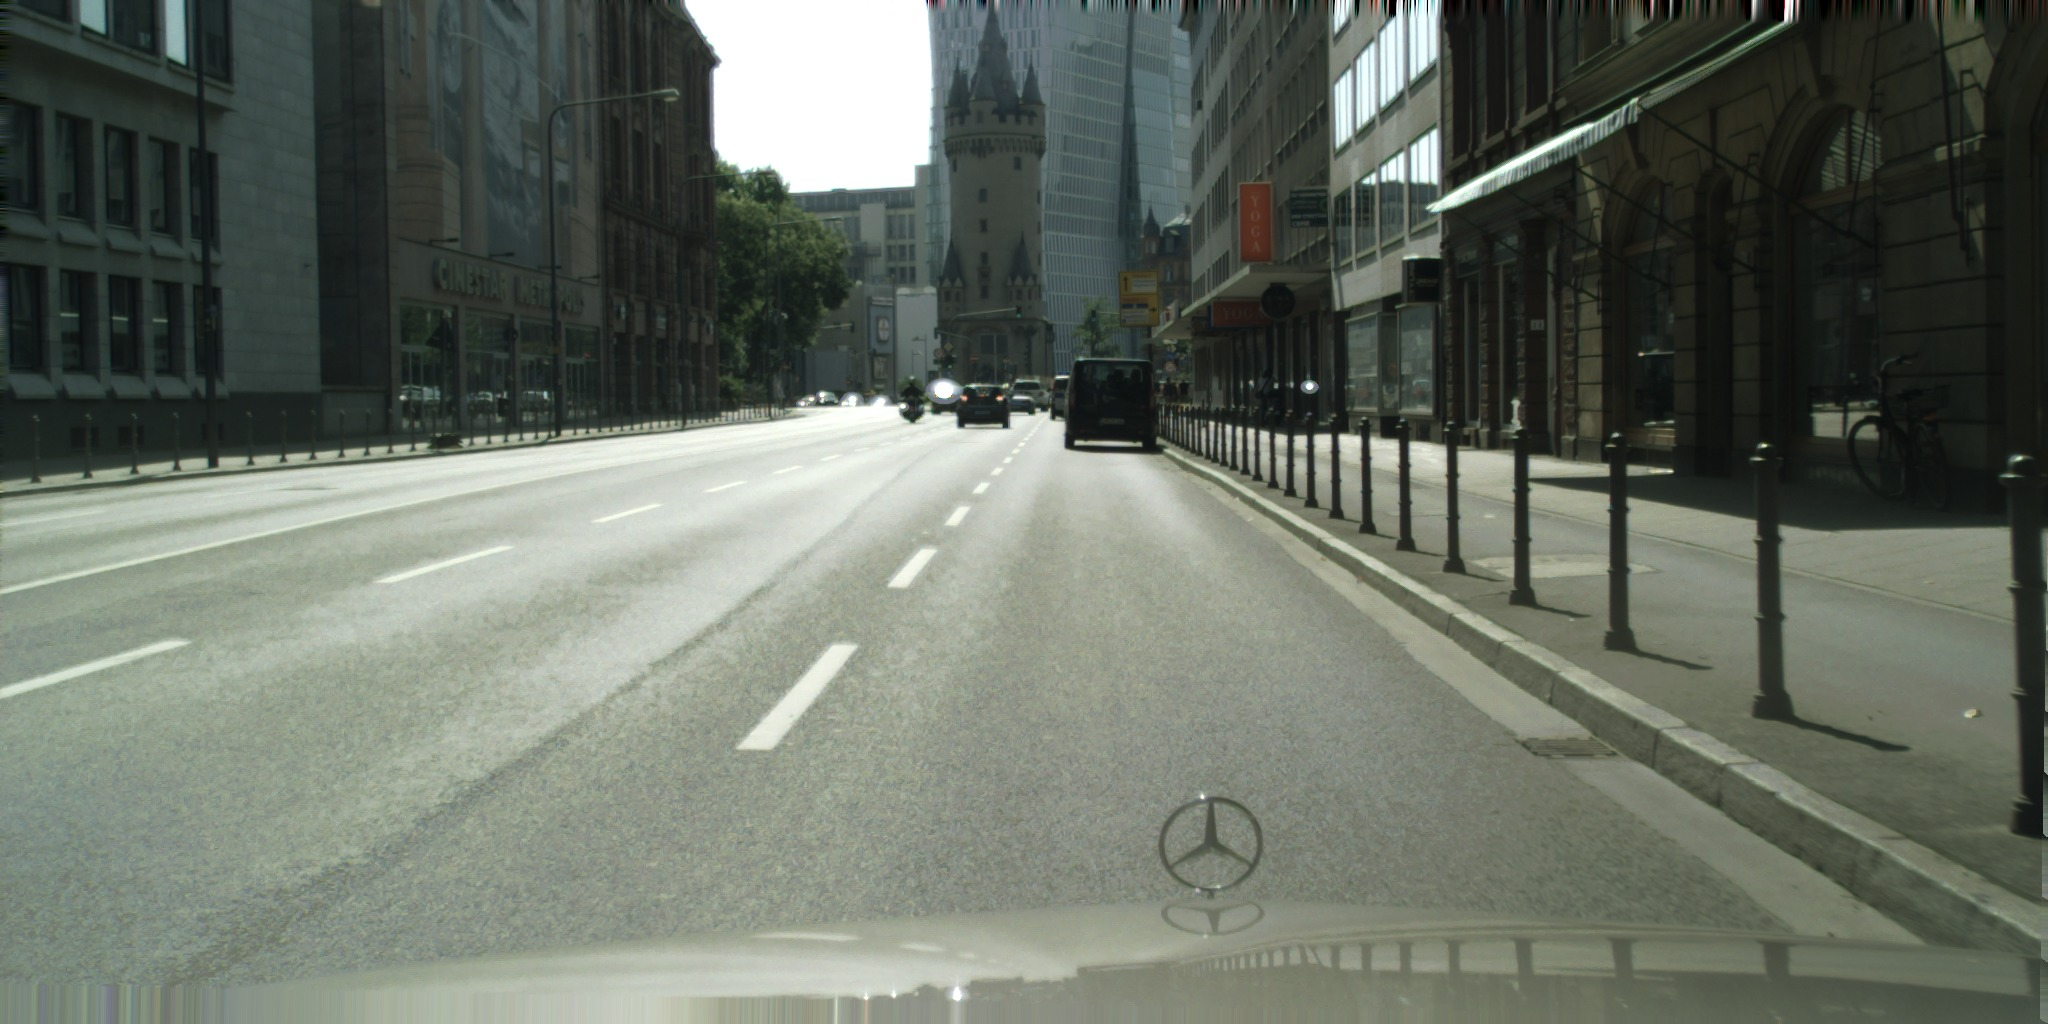bicycle: (1846, 351, 1954, 511)
car: (1064, 357, 1156, 449), (957, 384, 1011, 428), (1008, 378, 1053, 412), (931, 380, 965, 415), (1050, 374, 1074, 420), (1001, 391, 1036, 415), (838, 393, 865, 407), (815, 390, 839, 405), (865, 394, 894, 406), (794, 395, 819, 408)
motorcycle: (898, 395, 924, 424)
person: (1255, 370, 1276, 427), (1163, 376, 1176, 412), (1178, 379, 1189, 409)
rider: (900, 374, 927, 403)
